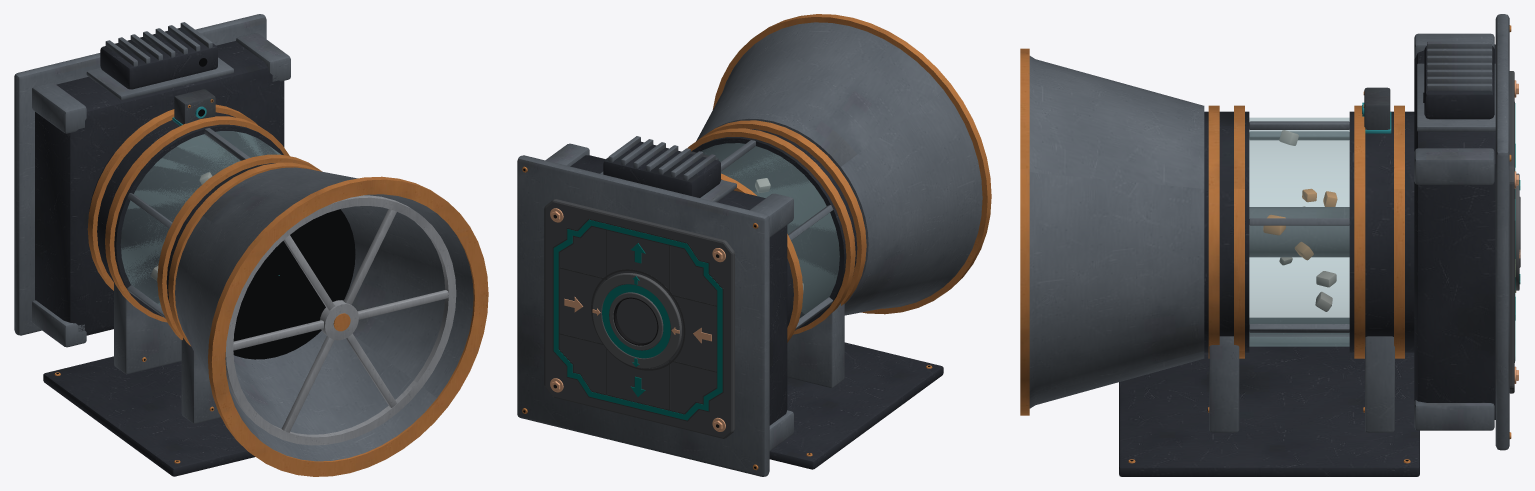
The model's file is vacuum_pump.glb.
3 views of the same model, side by side, from view 1: azimuth 30°, elevation 25°; view 2: azimuth 150°, elevation 25°; view 3: azimuth 270°, elevation 25° (orthographic). The views are drawn at different scales.
Parts seen in each view (by area): view 1: Body; view 2: Body, IOPort_both; view 3: Body, IOPort_both.
Boxes of the visible parts, left/top/right/bottom form: Body: left=14, top=14, right=488, bottom=476; Body: left=517, top=14, right=991, bottom=476; IOPort_both: left=544, top=199, right=734, bottom=438; Body: left=1020, top=14, right=1511, bottom=476; IOPort_both: left=1509, top=71, right=1520, bottom=393.
Bounding box in the file's own units: 0.732 × 0.746 × 0.996.
19 materials, 5 textured.
